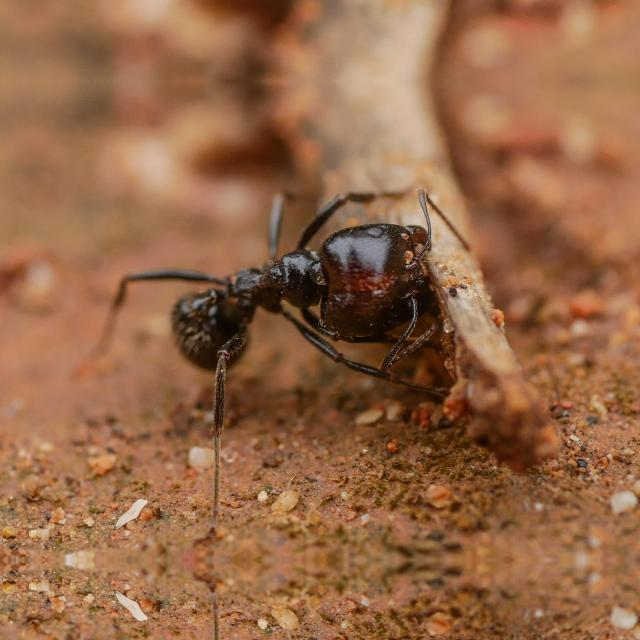Messor: (126, 198, 476, 430)
